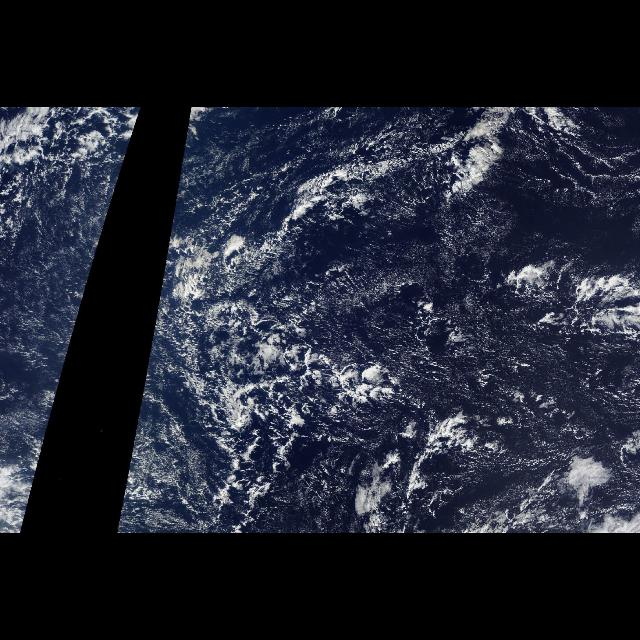Fish: (288, 234, 490, 386), (492, 250, 640, 340)
Sugar: (318, 228, 608, 434)
